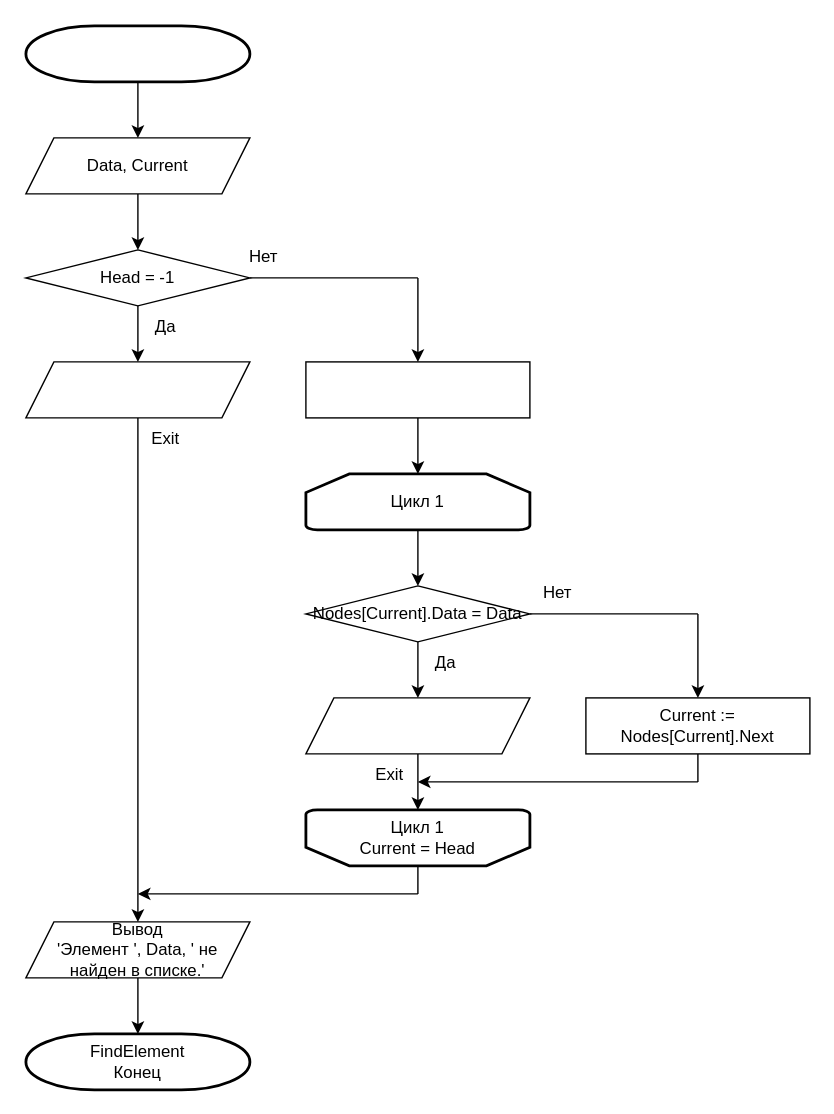
The diagram is 834 pixels wide and 1114 high, and some of its shapes have lost their labels. Each missing label, with the centre of its shape:
"Current := Head" belongs at [417,389].
"FindElement Начало" belongs at [137,53].
"Вывод 'Элемент ', Data, ' найден в списке.'" belongs at [417,725].
"Вывод Список пуст." belongs at [137,389].
